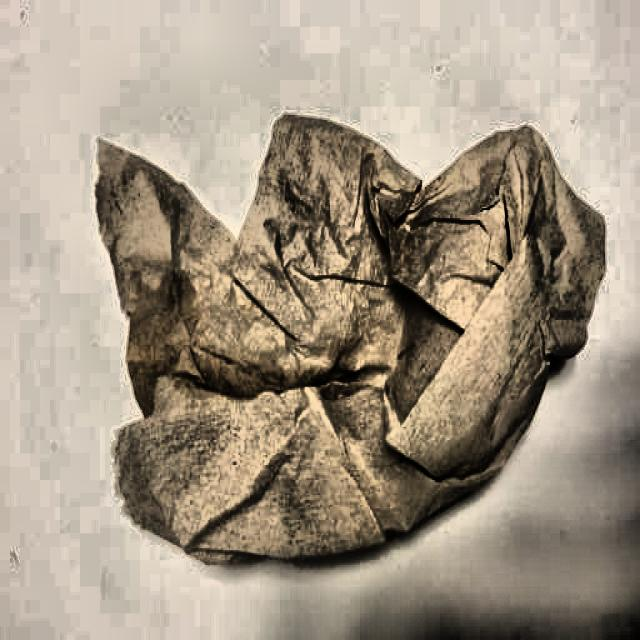trash: (102, 110, 528, 535)
